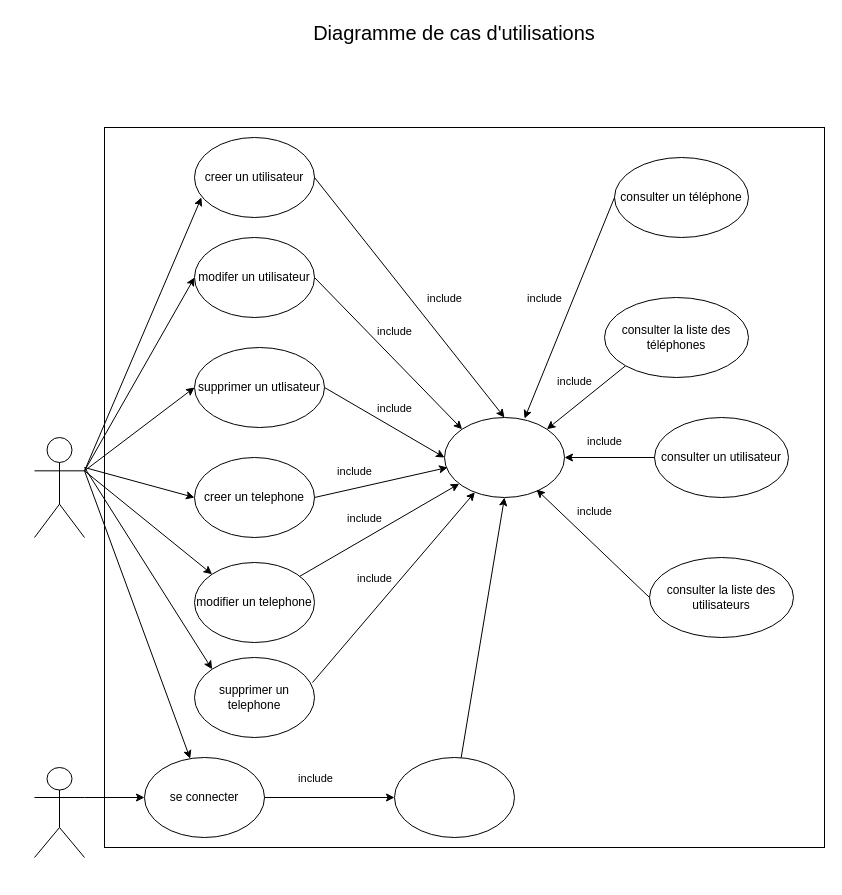
The diagram is 842 pixels wide and 895 high, and some of its shapes have lost their labels. The shapes that lost their labels are listed below. From the top down, each one's box as (x1, y1, x2, y2) in pixels, then its label:
(444, 416, 564, 498): se connecter à l'api
(34, 436, 84, 538): admin customer
(34, 766, 84, 858): customer
(394, 756, 514, 838): recuperer un token
